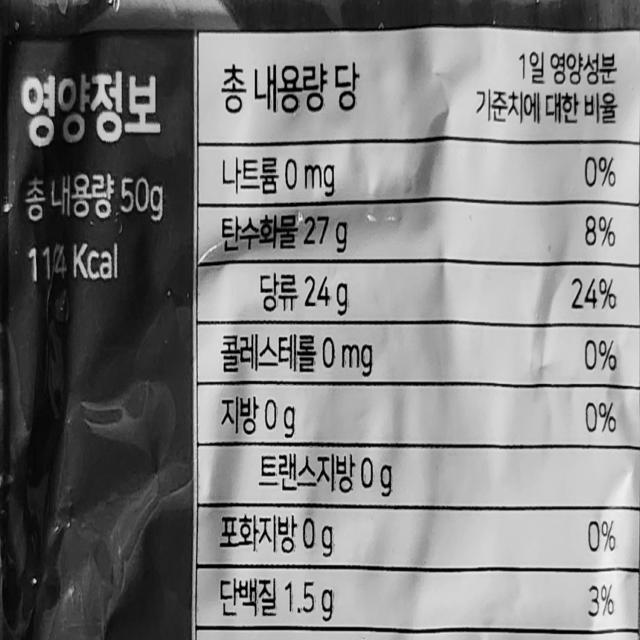Nutrition Label: (14, 49, 640, 632)
